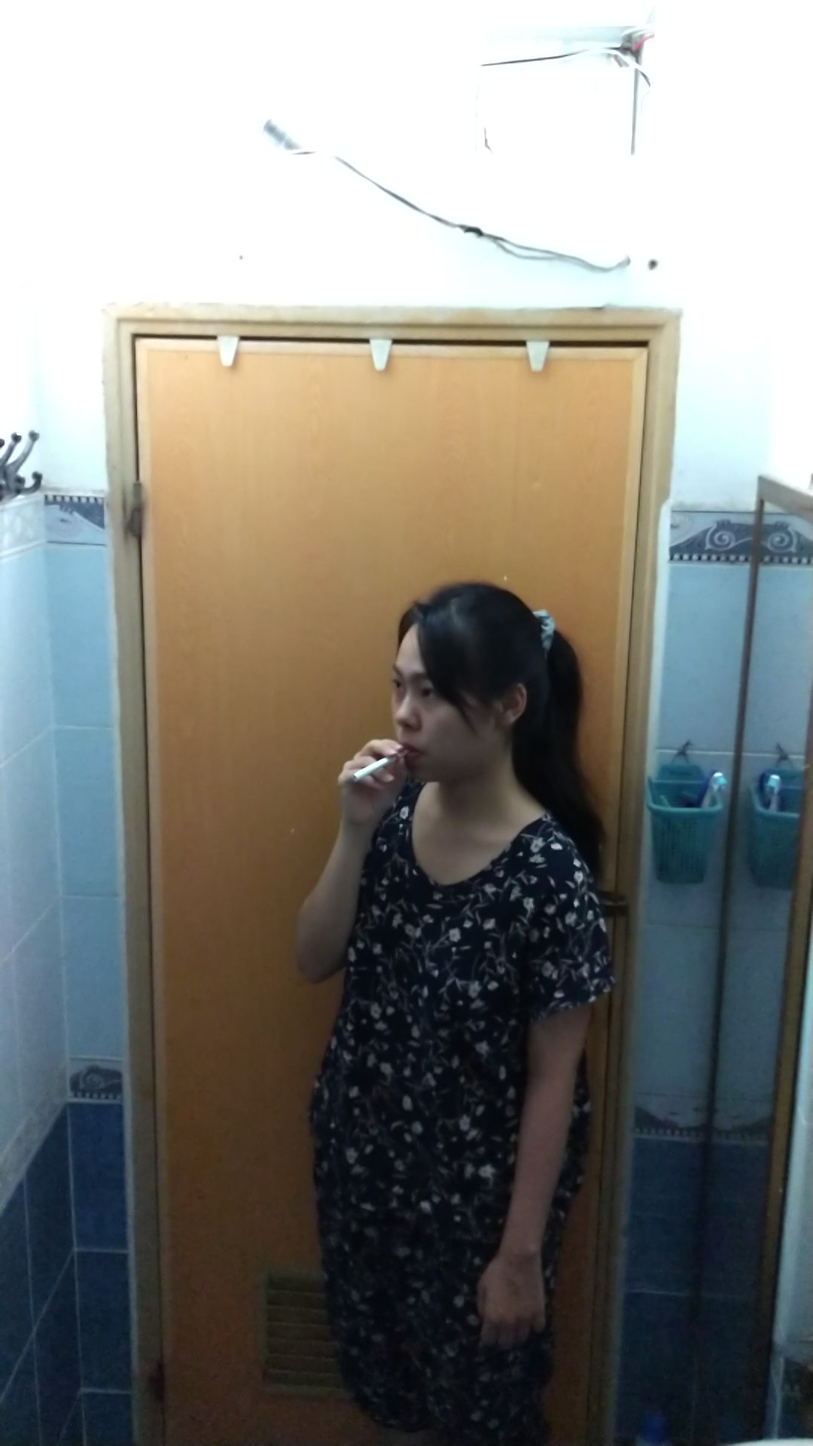cigarette: (349, 756, 389, 783)
person: (291, 570, 622, 1435)
